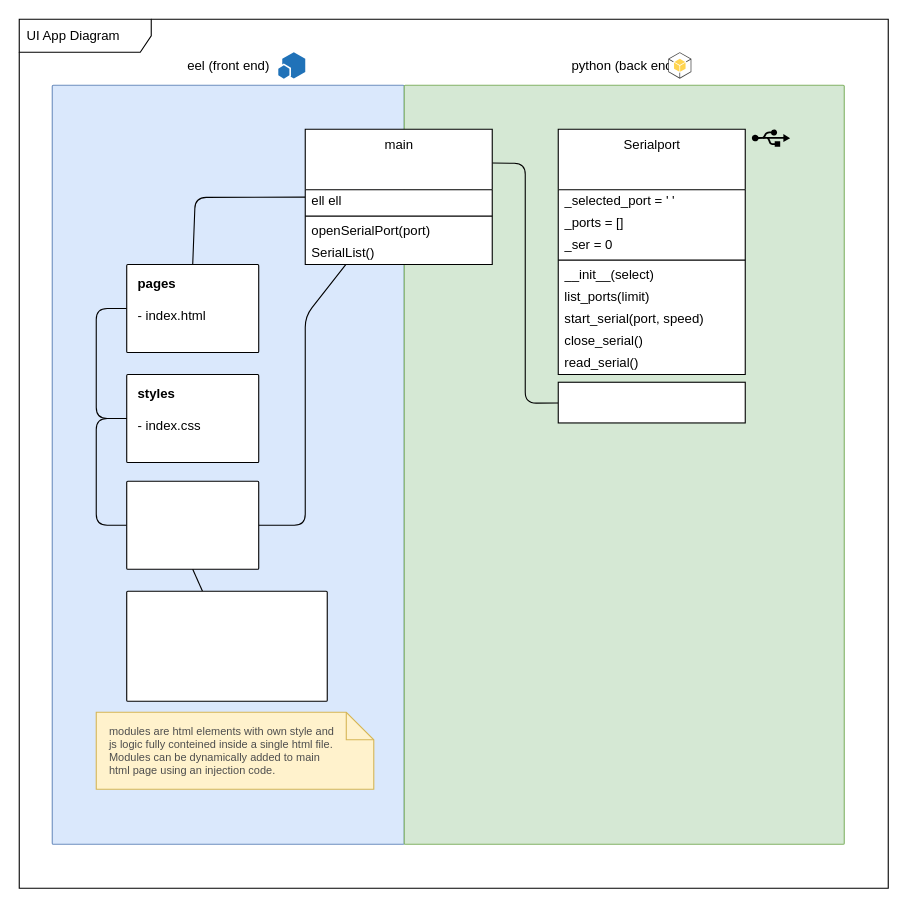
This 908x908 diagram has some shape labels left out. The centre of each missing label's shape, as x and y in pixels:
"modules - loading_icon.html - usb_select_box.html - wifi_select_box.html" belongs at [226,645].
"scripts - index.js" belongs at [192,524].
"SerialPy" belongs at [651,402].
"USB interface" belongs at [770,137].
